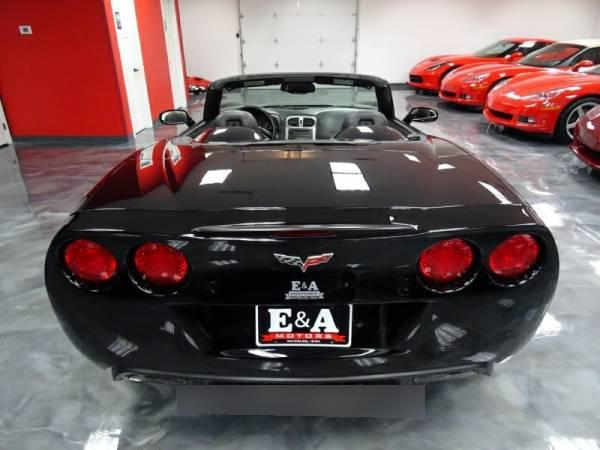Front_Windshield: (203, 73, 394, 117)
Left_Mirror: (156, 111, 194, 125)
Left_Taillight: (46, 217, 193, 294)
Rear_Bumper: (43, 273, 559, 397)
Right_Mirror: (403, 106, 439, 121)
Right_Taillight: (413, 224, 558, 294)
Tailgate: (66, 126, 544, 293)
